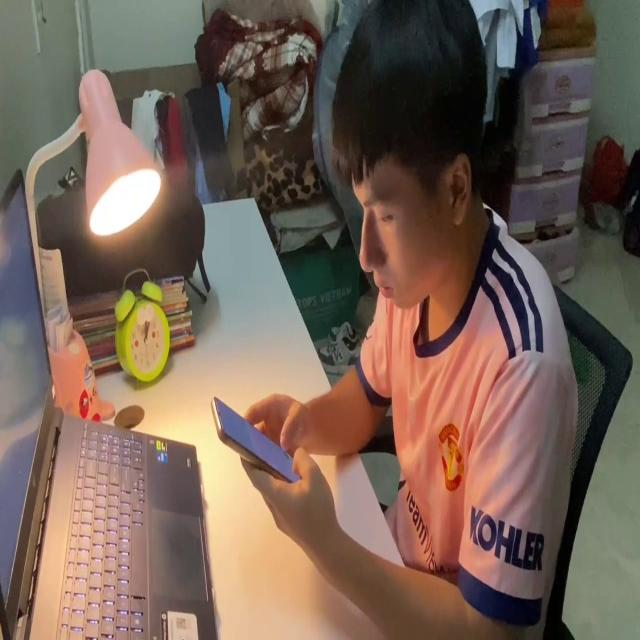laptop: (0, 162, 216, 640)
phone: (208, 389, 304, 490)
student: (239, 0, 578, 640)
